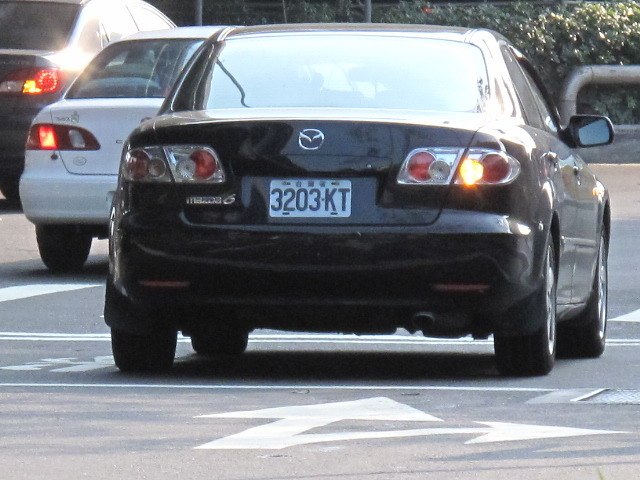plate: (266, 175, 354, 221)
